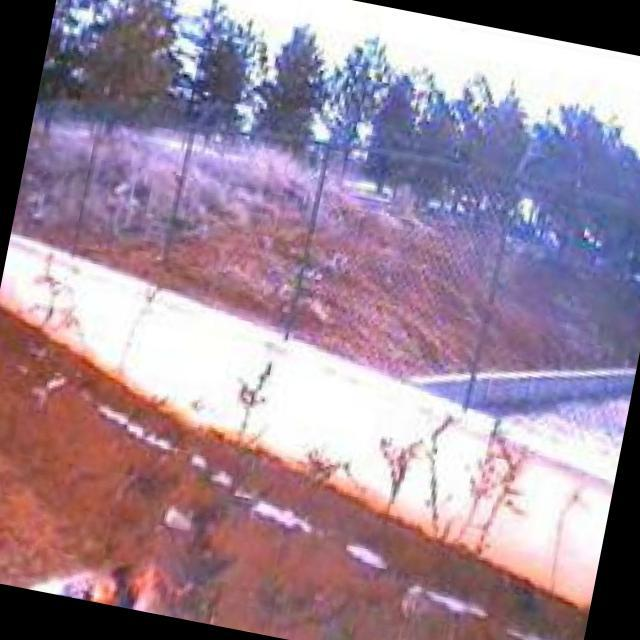Fire: (46, 546, 196, 621)
